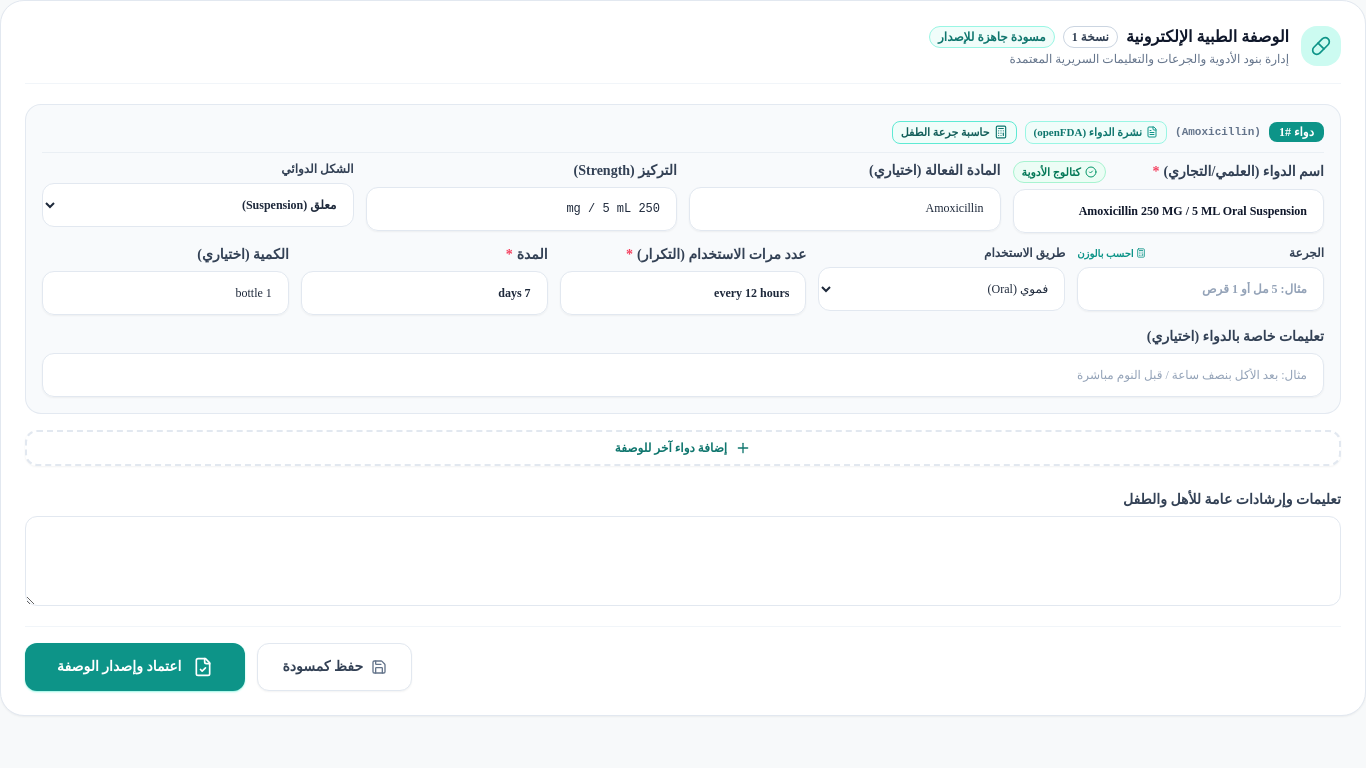
Test case: Safe Pediatric Dosage Calculator - Phase 1 (حاسبة جرعات الأطفال الآمنة) › 8. Clinical Review Workflow & Rule Approval Dispatching (مسار مراجعة واعتماد القواعد السريرية) › 2. Clicking calculate on item with needs_re_review rule blocks calculator and shows re-review error message
Click the button with test id "pediatric-calculator-btn-0" at [954, 132], box x1=892 y1=121 x2=1017 y2=144
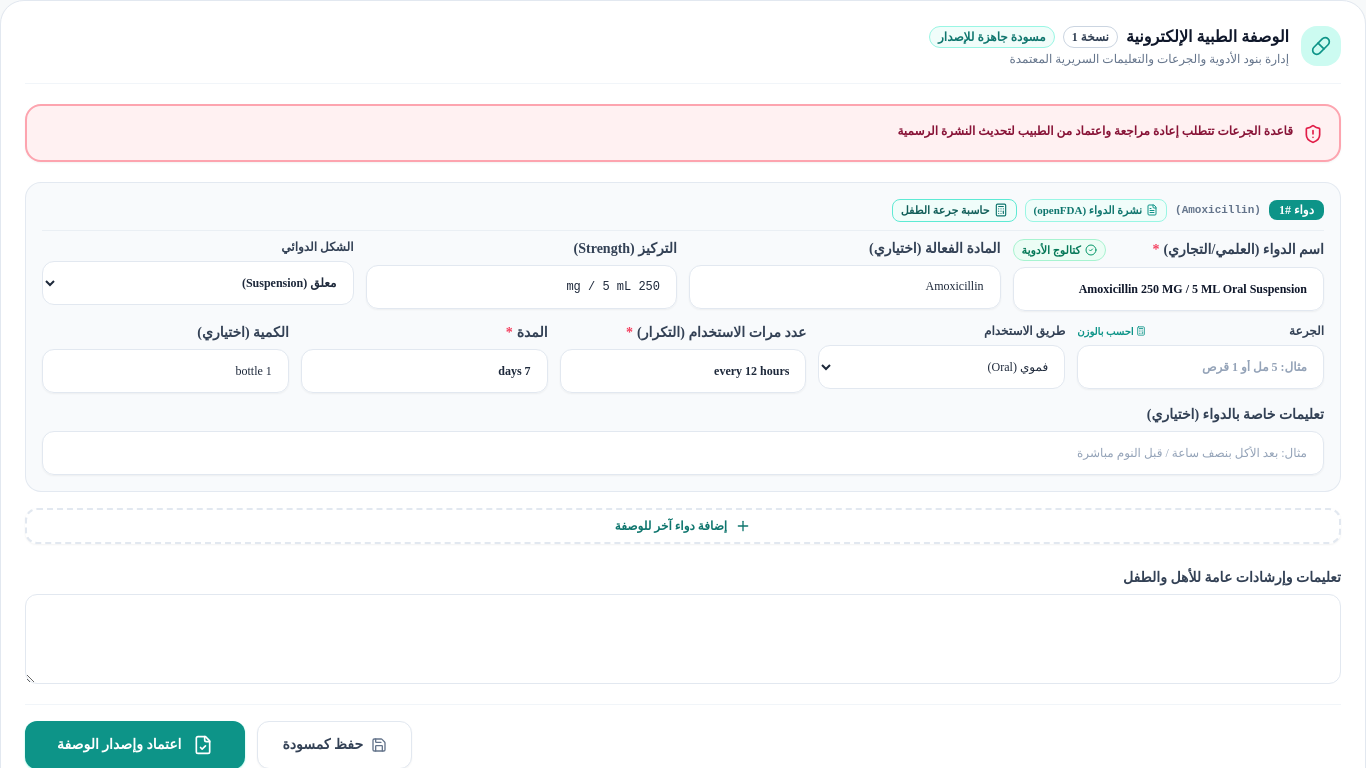
Expected: the text "قاعدة الجرعات تتطلب إعادة مراجعة واعتماد من الطبيب" is shown, x1=897 y1=124 x2=1293 y2=138
